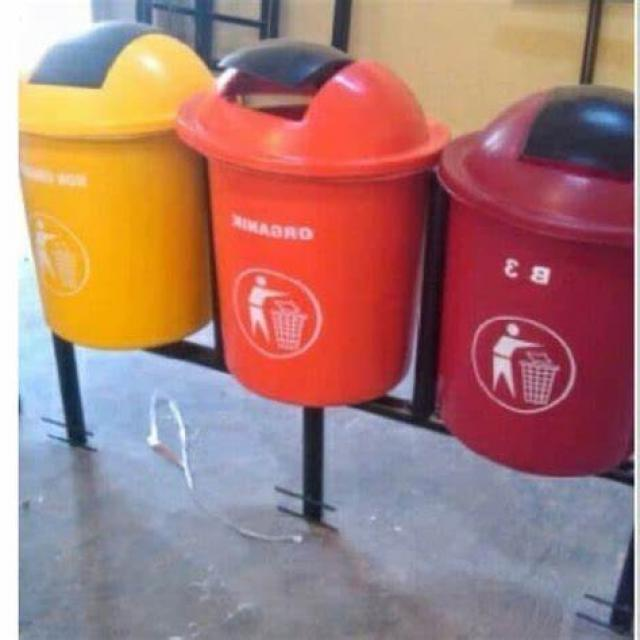garbage container: (178, 56, 446, 414), (423, 79, 638, 500), (0, 26, 219, 367)
